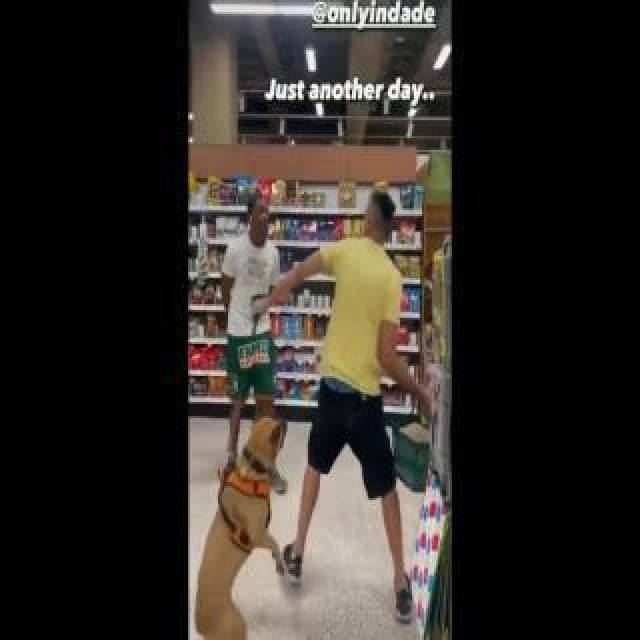fight: (210, 196, 420, 608)
